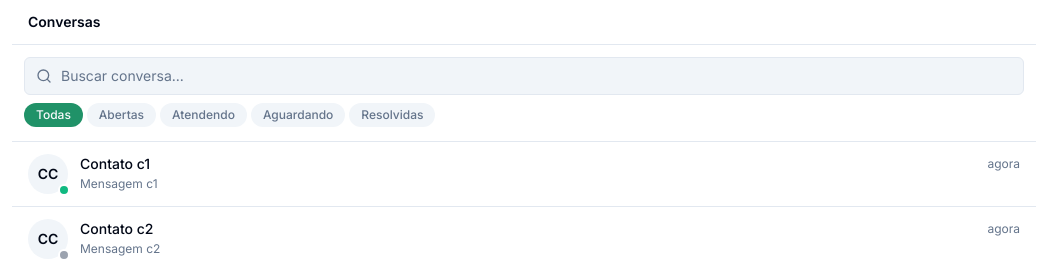
ConversationList › filtra conversas por status ao selecionar filtro
This screenshot has width=1048, height=276.
Click the tab with test id "status-filter-open": coordinates (121, 115) [87,103,156,127]
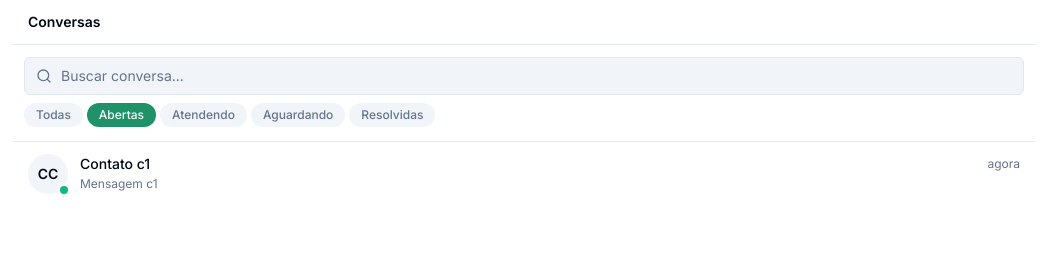
Expected: the text "Contato c1" is shown, [80,154,150,174]
Expected: the number of buttons with test id "conversation-item" is 1, [12,142,1036,206]
Expected: the button "Contato c2" is gone
